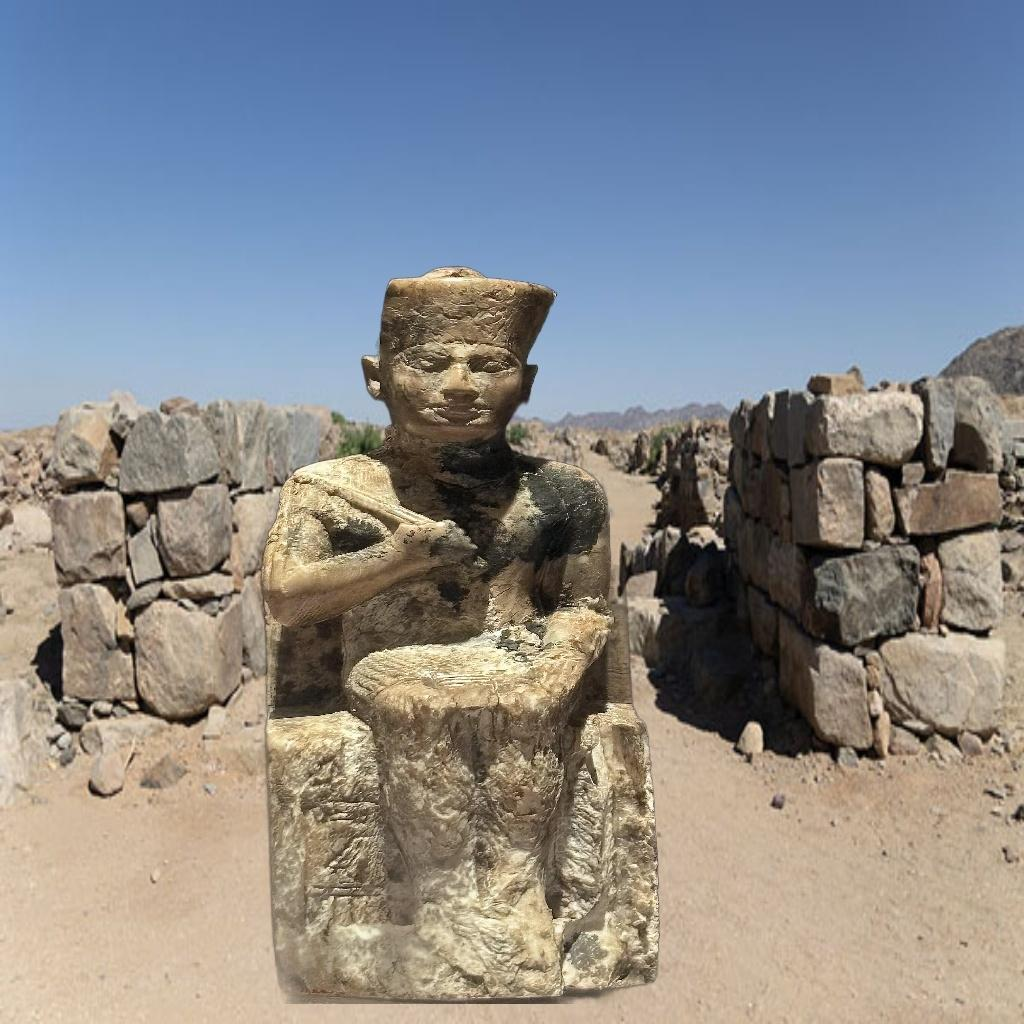Statue of Khufu: (258, 264, 664, 1004)
